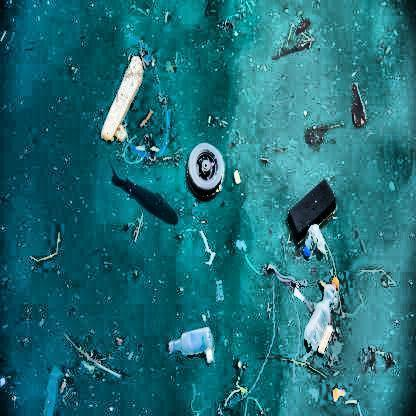plastic bottle: (305, 275, 341, 343), (167, 328, 214, 355), (306, 223, 326, 256)
